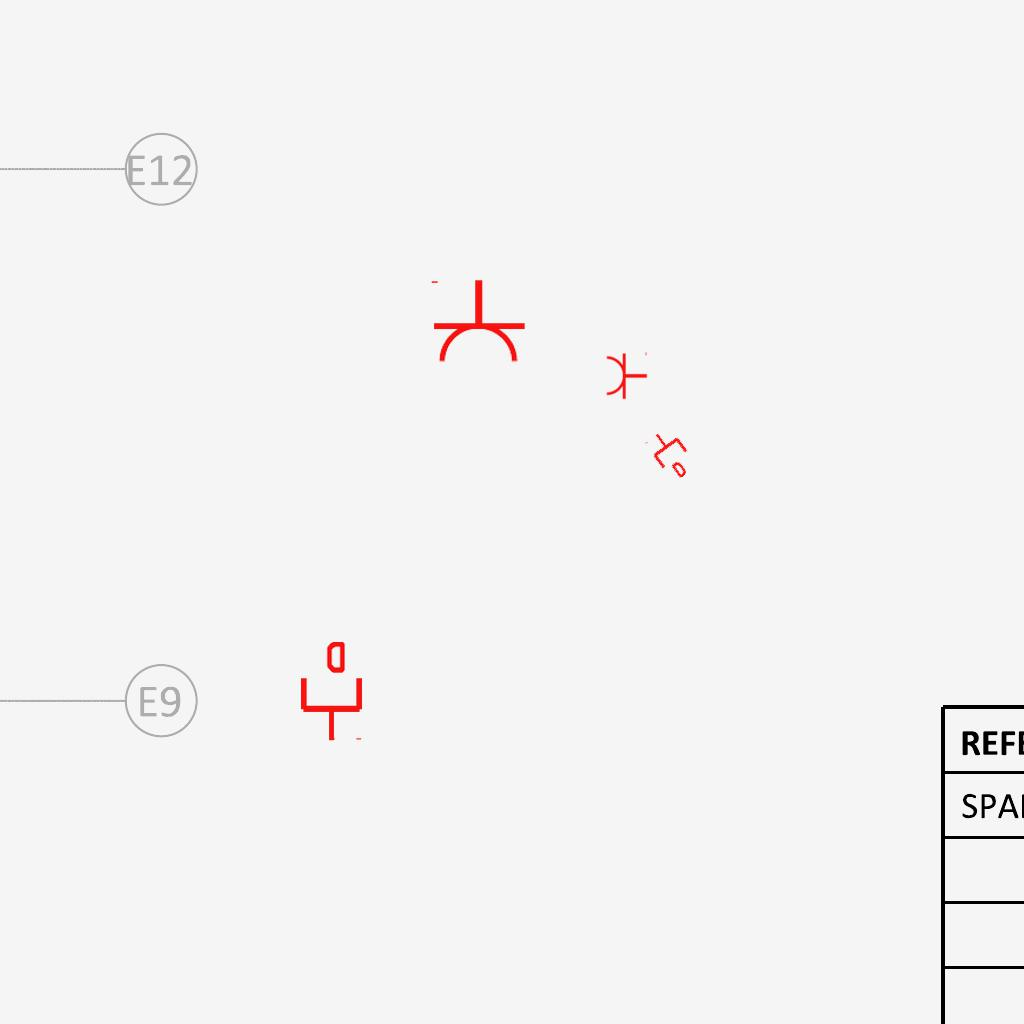Datenanschluss_einfach: (297, 642, 366, 742), (642, 423, 700, 485)
Schukosteckdose_einfach: (427, 278, 527, 365), (605, 350, 648, 400)
